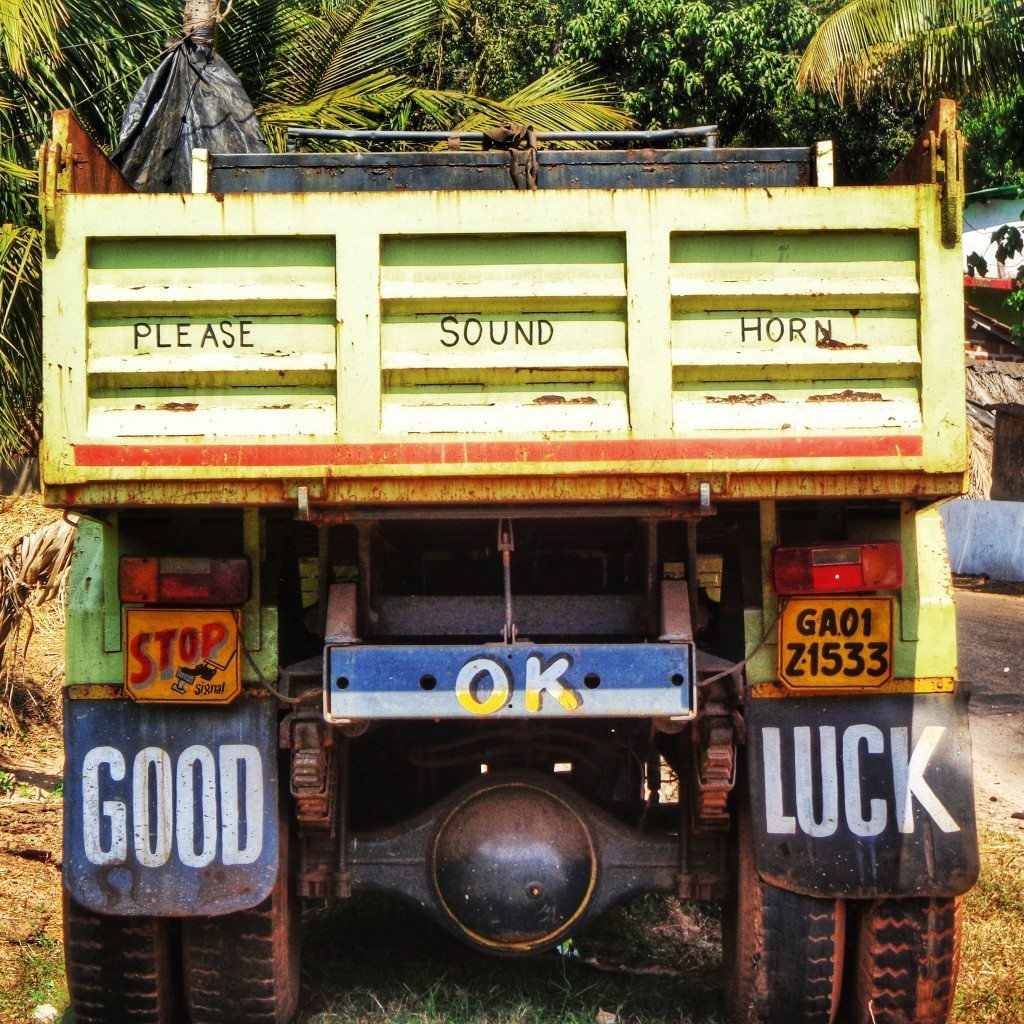number_plate: (773, 586, 903, 696)
